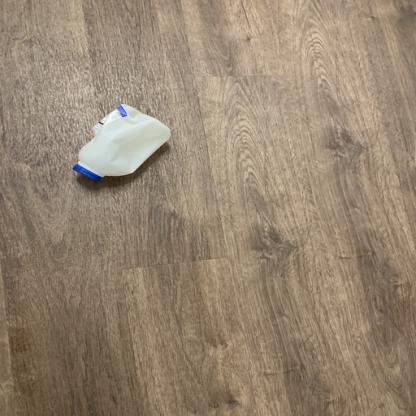trash: (66, 106, 176, 190)
